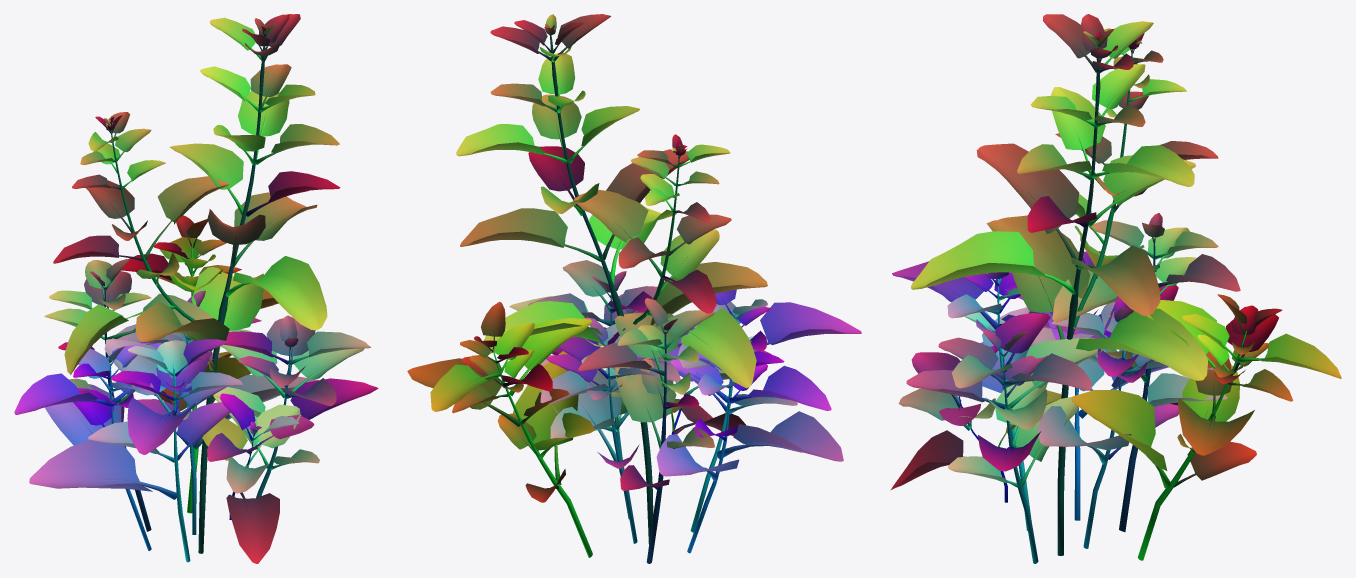
Rendered from Lemon_Balm_umslacdia_Mid_umslacdia_VarC_LOD0.fbx.
The picture shows the model from 3 angles, left to right: view 1: azimuth 30°, elevation 25°; view 2: azimuth 150°, elevation 25°; view 3: azimuth 270°, elevation 25°; orthographic projection. The views are drawn at different scales.
Visible parts, largest first — view 1: _g1iz_VarC_LOD1; view 2: _g1iz_VarC_LOD1; view 3: _g1iz_VarC_LOD1.
Part boxes in pixels (box(x1,y1,x2,y2)): _g1iz_VarC_LOD1: box(14, 14, 378, 563); _g1iz_VarC_LOD1: box(407, 14, 861, 563); _g1iz_VarC_LOD1: box(890, 14, 1341, 563).
Bounding box in the file's own units: 52.75 × 71.31 × 51.14.
